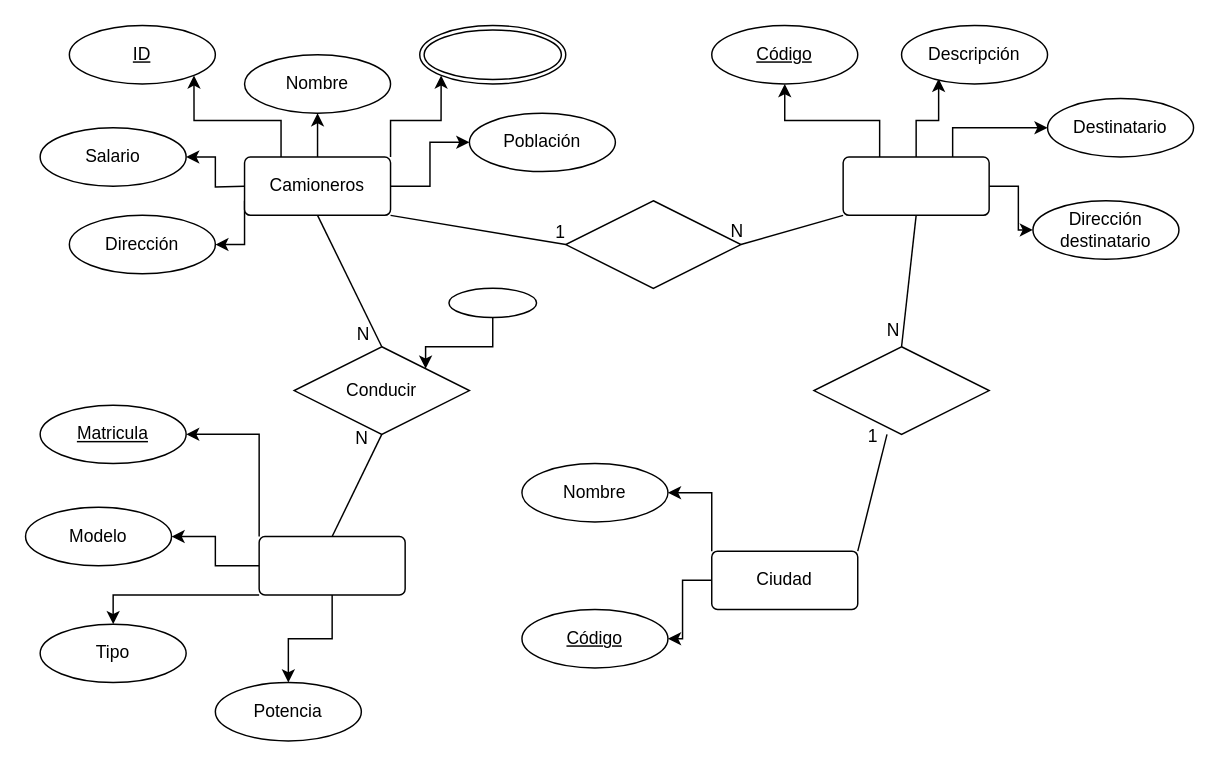
This 1219x767 diagram has some shape labels left out. The centre of each missing label's shape, as x and y in pixels:
Camiones: the point at 331,565
Distribuye: the point at 652,243
Fecha: the point at 492,302
Llegar: the point at 900,389
Paquetes: the point at 915,185
Teléfono: the point at 492,54
